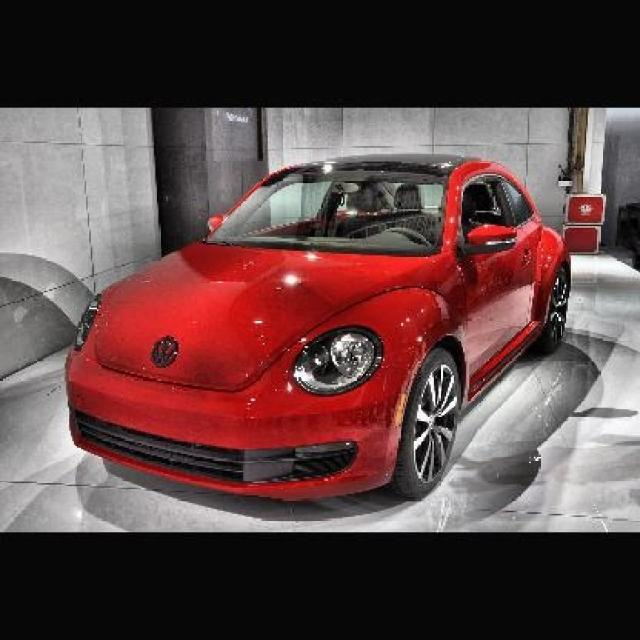red: (42, 138, 576, 472)
